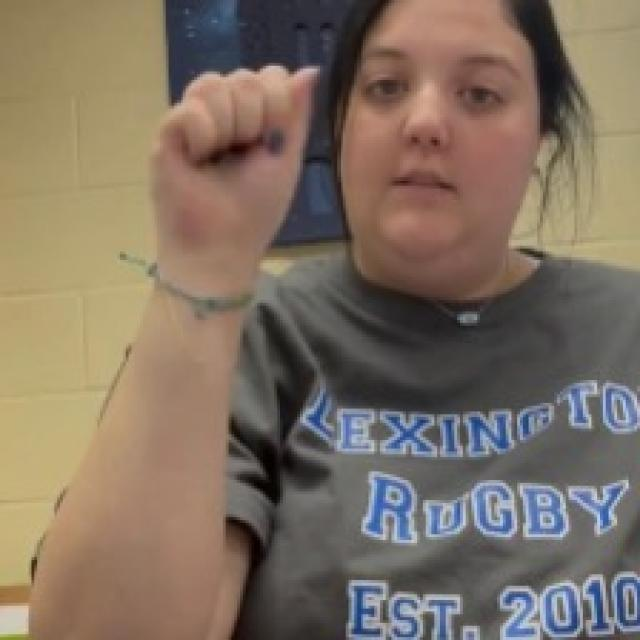yes: (144, 54, 322, 248)
